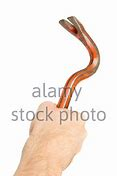crowbar: (12, 14, 101, 176)
